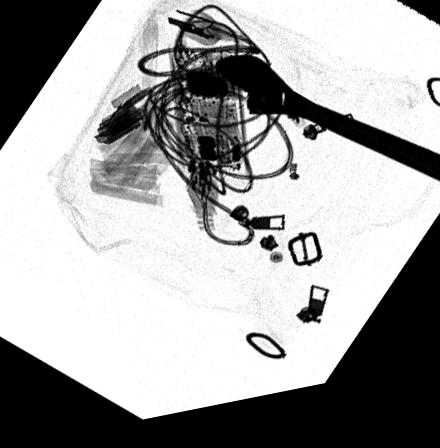Wrench: (211, 62, 440, 200)
